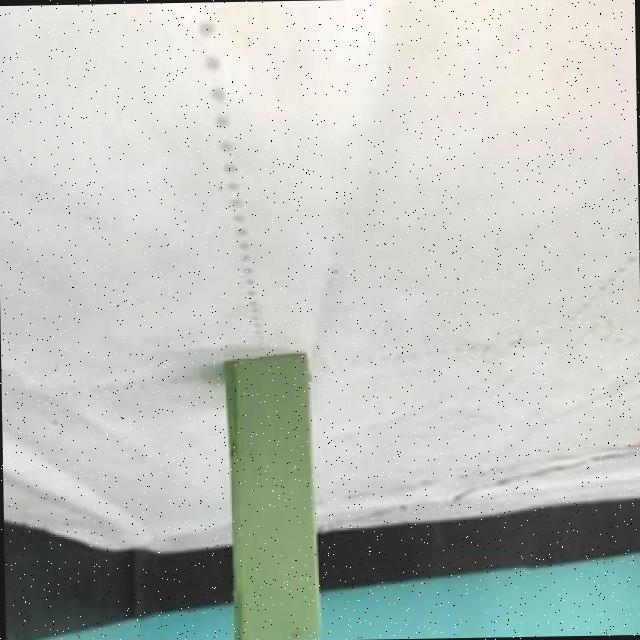greenbox: (224, 349, 316, 640)
